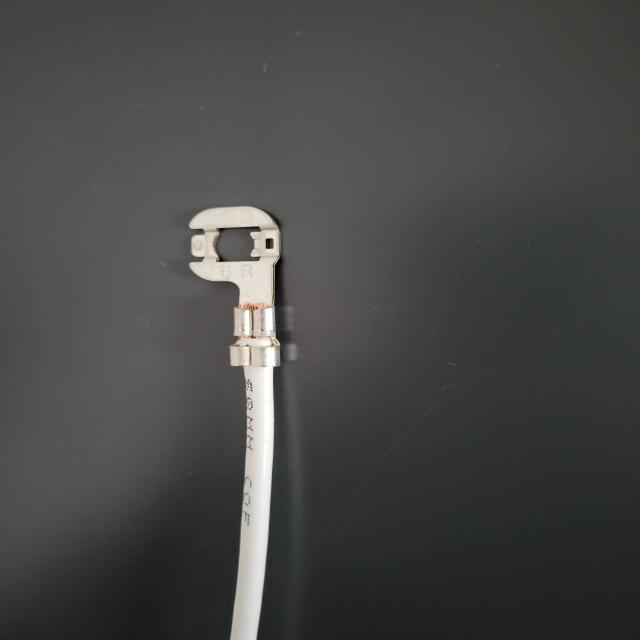good: (9, 5, 636, 640)
